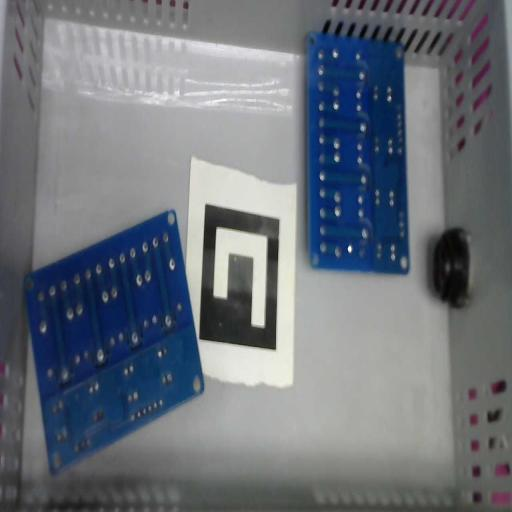QR: (199, 203, 279, 350)
relay_module: (24, 208, 204, 476), (307, 30, 410, 275)
